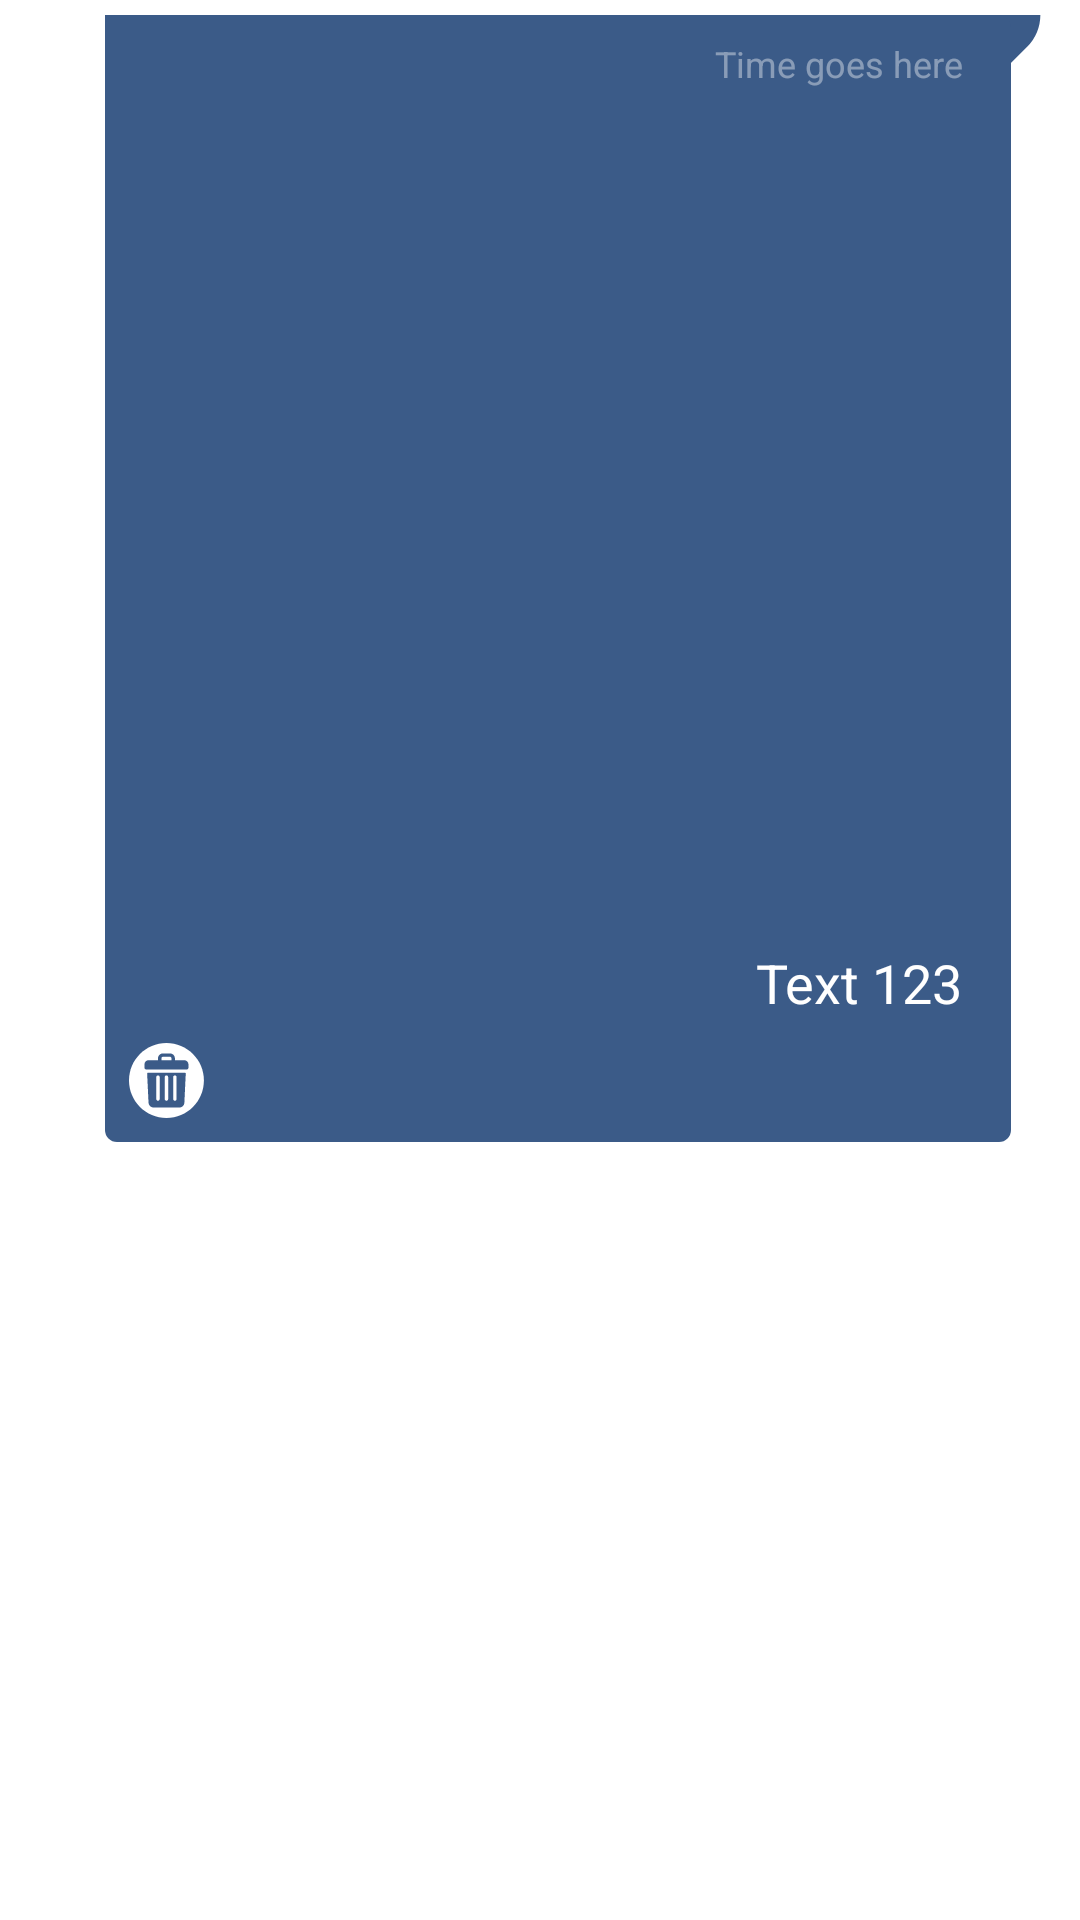

Screen size 1080 x 1920. Icon name, then its box in pixels as (x1, y1, x2, y2):
delete: (129, 1043, 204, 1118)
